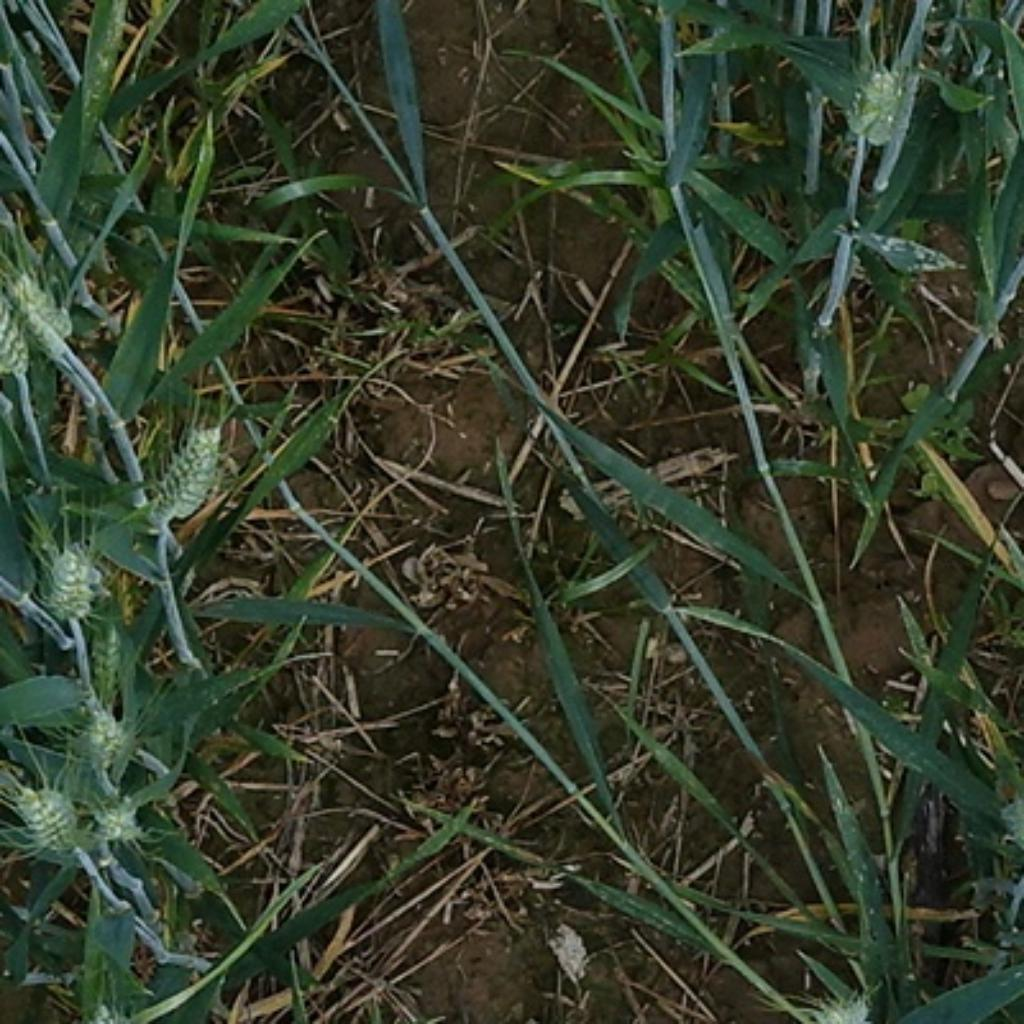0-0: (157, 417, 233, 525), (35, 534, 110, 617), (9, 782, 92, 857), (838, 69, 912, 144), (7, 267, 78, 342), (71, 699, 135, 762), (89, 791, 140, 844), (87, 623, 119, 695)
